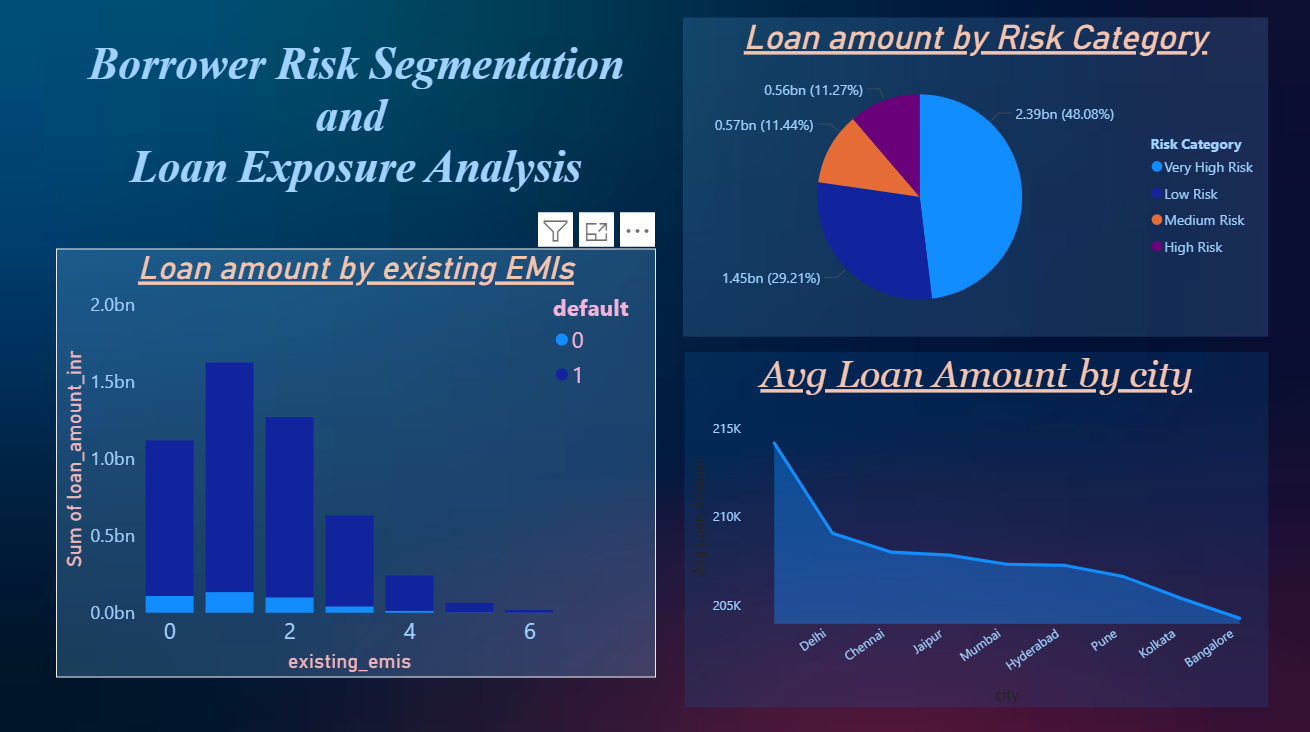

This screenshot's page, from the dashboard's own definition file:
{"tool":"powerbi","page":{"name":"Page 1","canvas":[1280,720],"ordinal":0},"visuals":[{"type":"columnChart","title":"Loan amount by existing EMIs","fields":{"Category":["train.existing_emis"],"Y":["Sum(train.loan_amount_inr)"],"Series":["train.default"]},"box":[68.6,250,571.4,408.6],"z":0},{"type":"pieChart","title":"Loan amount by Risk Category","fields":{"Category":["train.Risk Category"],"Y":["Sum(train.loan_amount_inr)"]},"box":[665.7,30,557.1,304.3],"z":1000},{"type":"stackedAreaChart","fields":{"Category":["train.city"],"Y":["train.Avg Loan Amount"]},"box":[667.1,348.6,555.7,338.6],"z":2000},{"type":"textbox","box":[68.6,44.3,571.4,177.1],"z":3000}]}

Visuals, with their boxes in screenshot pixels (x1, y1, x2, y2), scaled from the page's 1280x720 canvas onto the 1310x732 screenshot:
"Loan amount by existing EMIs" columnChart: (70,254,655,670)
"Loan amount by Risk Category" pieChart: (681,30,1251,340)
stackedAreaChart - train.city x train.Avg Loan Amount: (683,354,1251,699)
textbox: (70,45,655,225)
